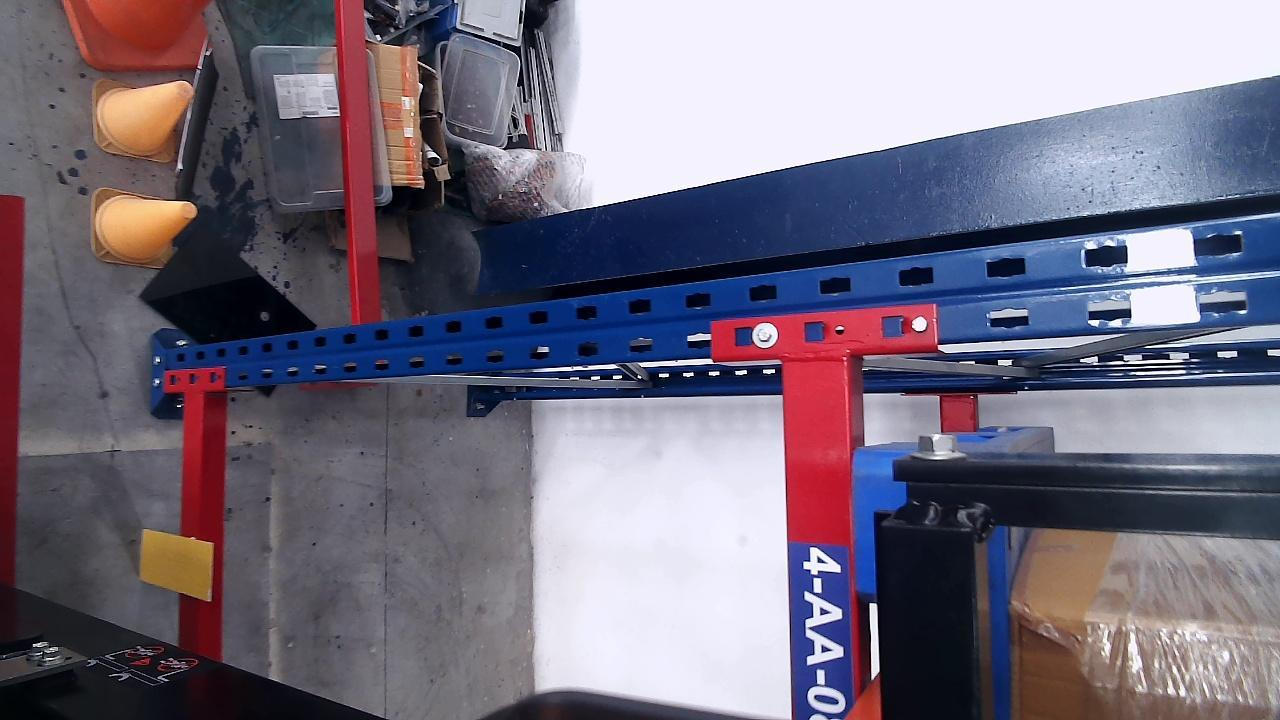h_rack: (778, 358, 857, 720), (180, 390, 204, 657)
orange_strip: (138, 528, 214, 601)
red_line: (0, 192, 25, 583)
